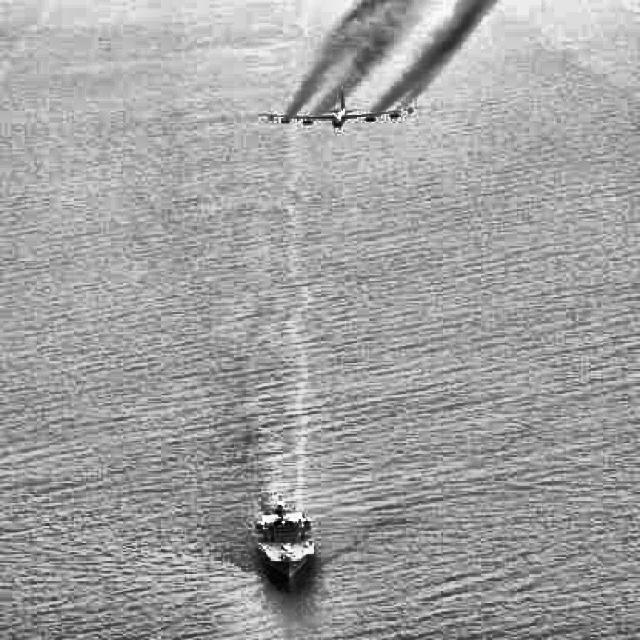B52: (258, 90, 424, 128)
